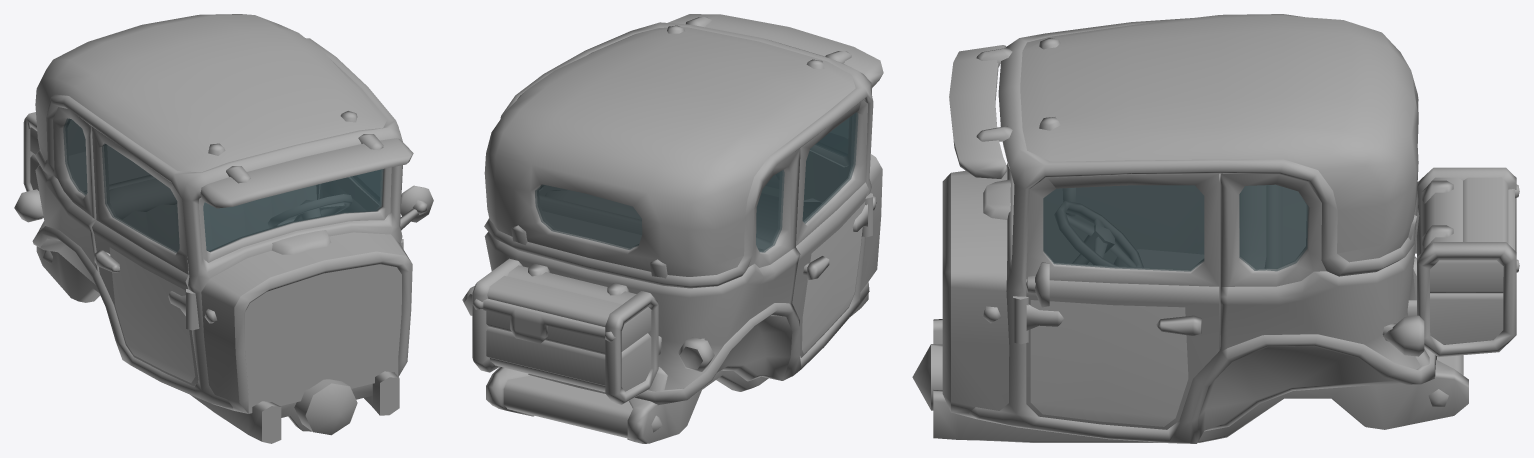
Rendered from Body_Bantam.fbx.
The picture shows the model from 3 angles, left to right: view 1: azimuth 30°, elevation 25°; view 2: azimuth 150°, elevation 25°; view 3: azimuth 270°, elevation 25°; orthographic projection. The views are drawn at different scales.
Visible parts, largest first — view 1: Bantam_Body_Mesh, Bantam_Body_Window_Mesh, Bantam_Door_Right_Mesh, Bantam_Door_Right_Decal_Mesh, Bantam_Body_Cap_Mesh, Bantam_Door_Right_Window_Mesh, Bantam_Door_Left_Mesh, Bantam_Body_SteerWheel_Mesh, Body_Back_Box_Mesh, Bantam_Door_Left_Window_Mesh; view 2: Bantam_Body_Mesh, Body_Back_Box_Mesh, Bantam_Body_Window_Mesh, Bantam_Door_Right_Mesh, Bantam_Door_Right_Decal_Mesh, Bantam_Body_Cap_Mesh, Bantam_Door_Right_Window_Mesh; view 3: Bantam_Body_Mesh, Body_Back_Box_Mesh, Bantam_Door_Left_Decal_Mesh, Bantam_Door_Left_Mesh, Bantam_Door_Left_Window_Mesh, Bantam_Door_Right_Mesh, Bantam_Body_Cap_Mesh, Bantam_Body_Window_Mesh, Bantam_Body_SteerWheel_Mesh.
Part boxes in pixels (<box>): Bantam_Body_Mesh: <box>14,14,412,443</box>; Bantam_Body_Window_Mesh: <box>63,118,383,251</box>; Bantam_Door_Right_Mesh: <box>92,126,198,386</box>; Bantam_Door_Right_Decal_Mesh: <box>109,247,195,382</box>; Bantam_Body_Cap_Mesh: <box>200,134,413,208</box>; Bantam_Door_Right_Window_Mesh: <box>102,143,179,253</box>; Bantam_Door_Left_Mesh: <box>319,177,433,230</box>; Bantam_Body_SteerWheel_Mesh: <box>268,194,352,227</box>; Body_Back_Box_Mesh: <box>23,112,39,191</box>; Bantam_Door_Left_Window_Mesh: <box>353,170,380,201</box>; Bantam_Body_Mesh: <box>462,22,882,443</box>; Body_Back_Box_Mesh: <box>472,258,661,404</box>; Bantam_Body_Window_Mesh: <box>535,118,848,252</box>; Bantam_Door_Right_Mesh: <box>791,100,868,357</box>; Bantam_Door_Right_Decal_Mesh: <box>802,201,865,353</box>; Bantam_Body_Cap_Mesh: <box>668,14,883,87</box>; Bantam_Door_Right_Window_Mesh: <box>802,112,858,223</box>; Bantam_Body_Mesh: <box>912,14,1468,443</box>; Body_Back_Box_Mesh: <box>1407,167,1519,357</box>; Bantam_Door_Left_Decal_Mesh: <box>1030,300,1188,426</box>; Bantam_Door_Left_Mesh: <box>1026,173,1220,429</box>; Bantam_Door_Left_Window_Mesh: <box>1043,185,1204,271</box>; Bantam_Door_Right_Mesh: <box>1043,185,1203,264</box>; Bantam_Body_Cap_Mesh: <box>949,45,1012,178</box>; Bantam_Body_Window_Mesh: <box>1239,184,1308,271</box>; Bantam_Body_SteerWheel_Mesh: <box>1054,201,1143,266</box>.
Size of the model in its own units: 179 by 181 by 281.
